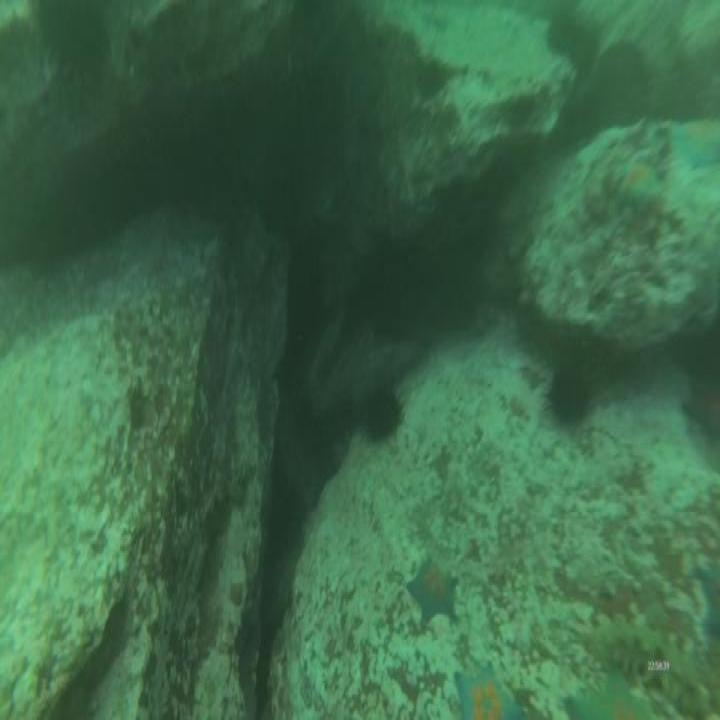echinus: (549, 370, 585, 425), (362, 393, 399, 439)
holothurian: (597, 618, 714, 714)
starfish: (568, 674, 644, 720), (454, 666, 514, 720), (408, 562, 454, 622), (676, 116, 719, 174), (622, 162, 655, 208)
